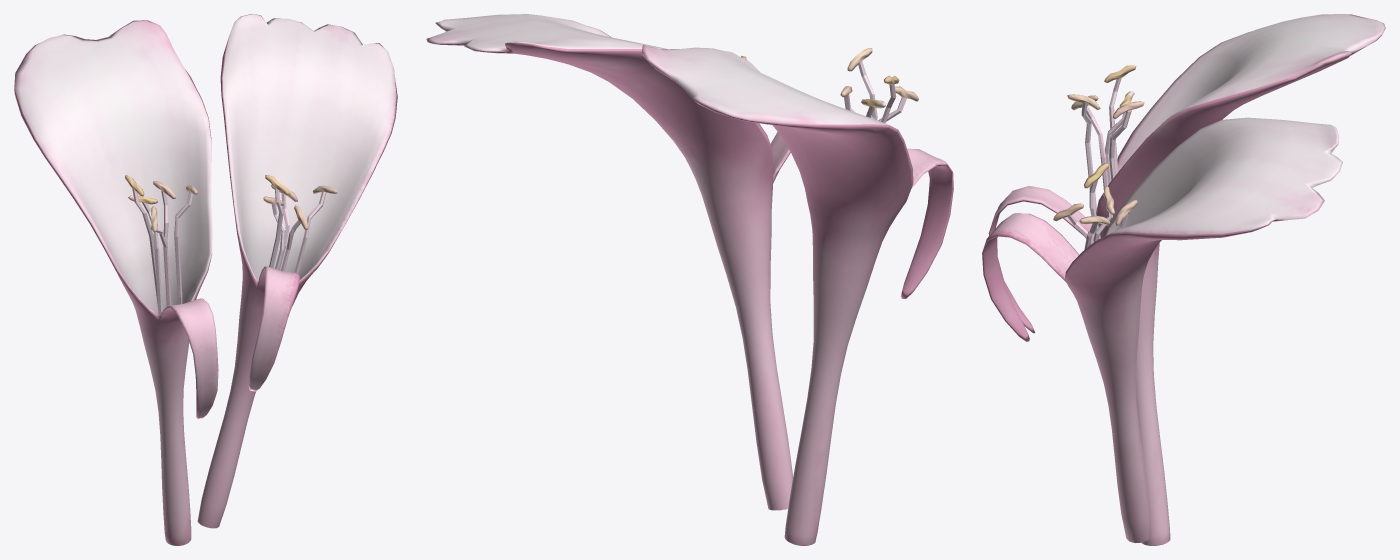
3 renders of one model, left to right at view 1: azimuth 30°, elevation 25°; view 2: azimuth 150°, elevation 25°; view 3: azimuth 270°, elevation 25°, orthographic. The views are drawn at different scales.
Parts seen in each view (by area): view 1: polySurface5.001; view 2: polySurface5.001; view 3: polySurface5.001.
Part boxes in pixels (x1,y1,x2,y2): polySurface5.001: [14, 14, 397, 545]; polySurface5.001: [426, 14, 953, 545]; polySurface5.001: [982, 14, 1385, 545].
Size of the model in its own units: 0.3959 by 0.4803 by 0.3413.
1 material, 1 textured.
